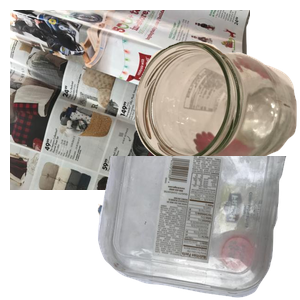glass: (132, 38, 300, 199)
paper: (10, 10, 250, 190)
plastic: (95, 156, 300, 300)
trash: (95, 157, 282, 300)
